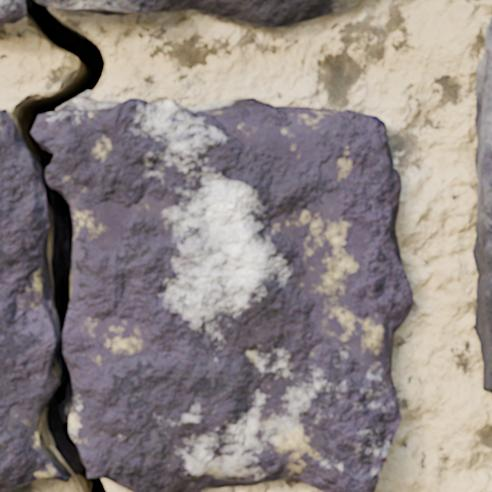brick: (473, 18, 491, 392)
broken_brick: (32, 97, 413, 491), (0, 108, 70, 491), (38, 0, 364, 28), (0, 0, 25, 23)
crack: (2, 0, 111, 491)
